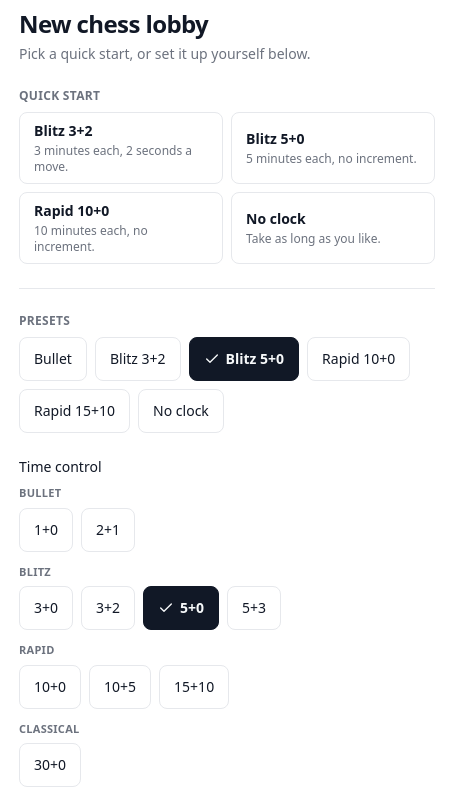
the create-lobby surface › submits the settings the form is showing
This screenshot has width=455, height=794.
Click the radio button labelled "3+2" at (108, 608), box [81,586,135,630]
(page scrolled)
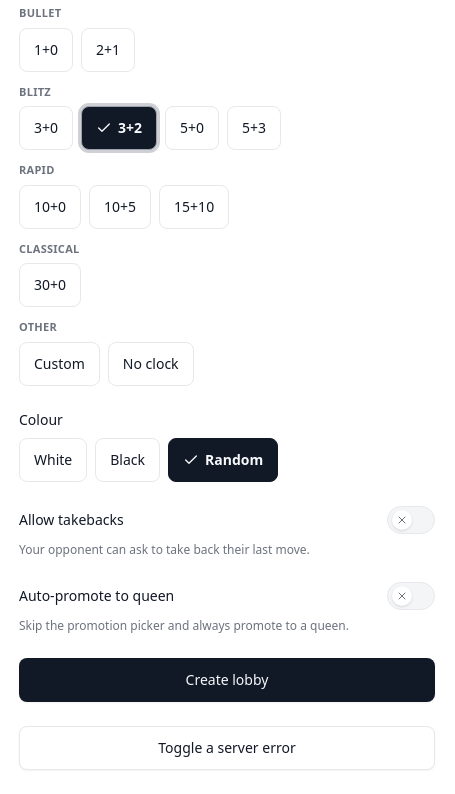
Click the button with test id "create-lobby-submit" at (227, 680), box [19,658,435,702]
(page scrolled)
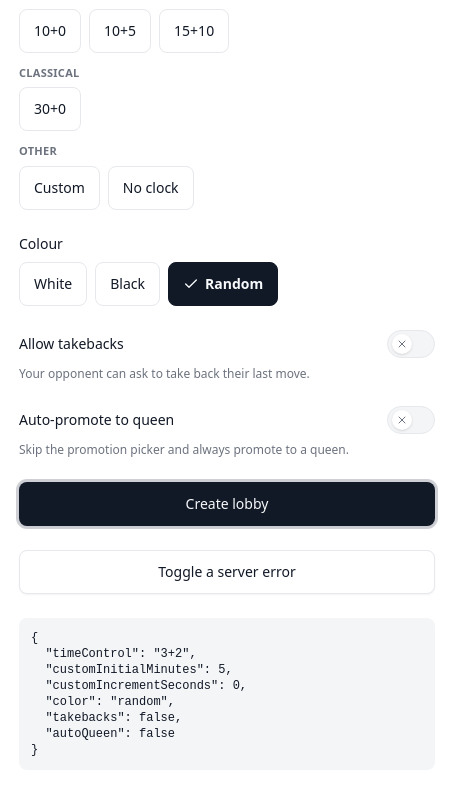
Result: the text "\"timeControl\": \"3+2\"" is shown at [31,630,247,756]
